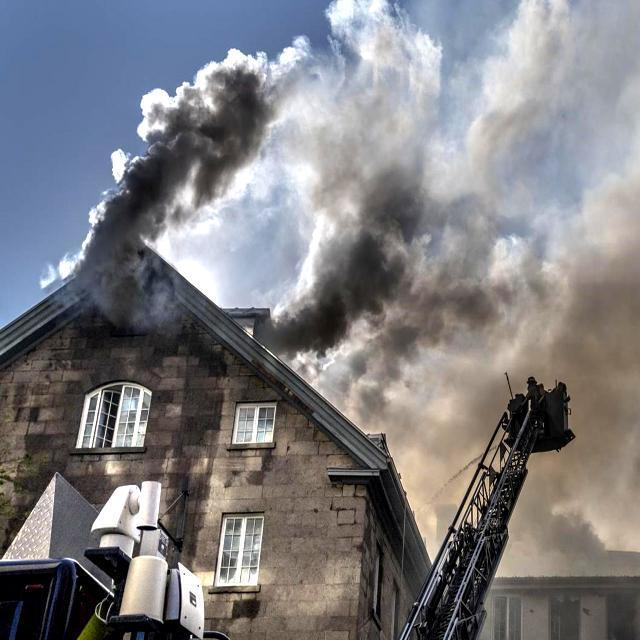Smoke: (296, 5, 640, 583), (61, 45, 298, 340)
